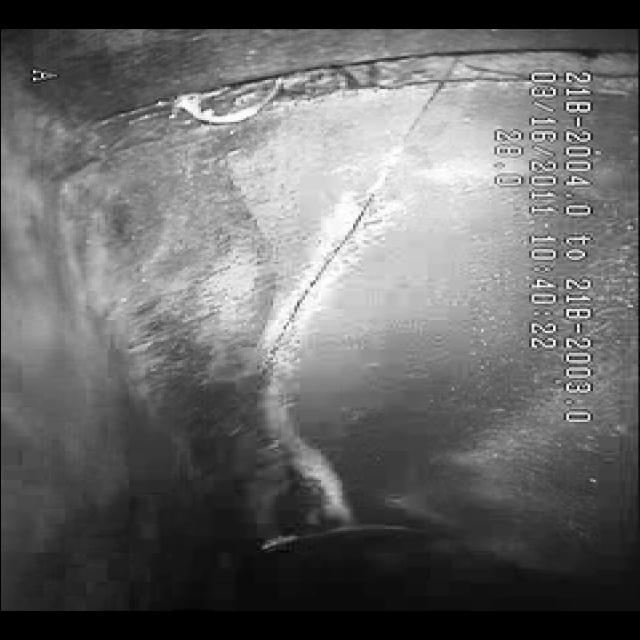Crack: (230, 114, 453, 426)
